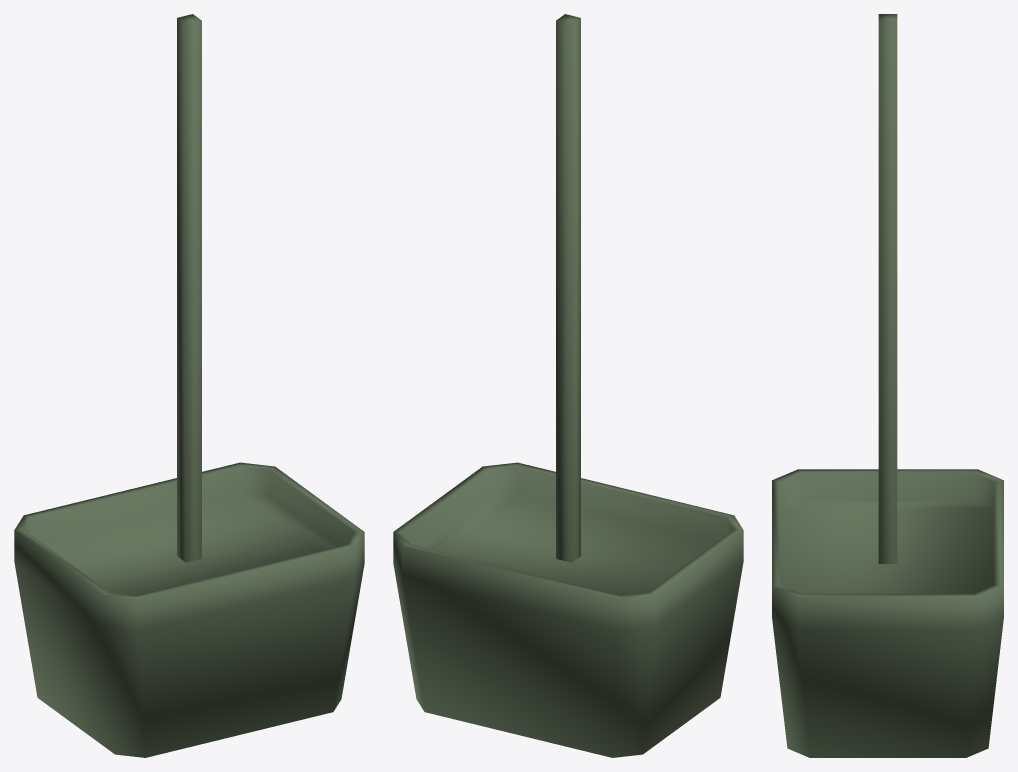
The model's file is Prop_Potus.fbx.
3 renders of one model, left to right at view 1: azimuth 30°, elevation 25°; view 2: azimuth 150°, elevation 25°; view 3: azimuth 270°, elevation 25°, orthographic.
Visible parts, largest first — view 1: Prop_Potus; view 2: Prop_Potus; view 3: Prop_Potus.
Part boxes in pixels (left/top/right/bottom): Prop_Potus: left=14, top=14, right=364, bottom=757; Prop_Potus: left=393, top=14, right=743, bottom=757; Prop_Potus: left=772, top=14, right=1003, bottom=757.
Bounding box in the file's own units: 1.1 × 2.74 × 0.8403.
